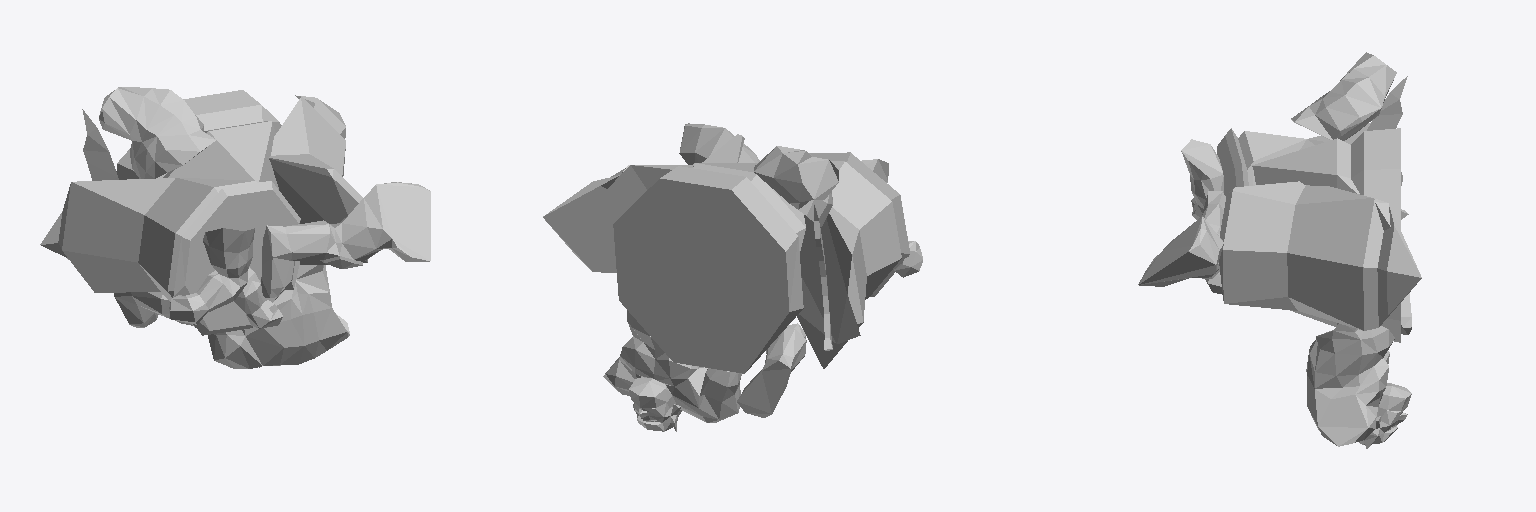
Rendered from statue-Orc-04.obj.
3 renders of one model, left to right at view 1: azimuth 30°, elevation 25°; view 2: azimuth 150°, elevation 25°; view 3: azimuth 270°, elevation 25°, orthographic.
Visible parts, largest first — view 1: (null); view 2: (null); view 3: (null).
Part boxes in pixels (x1,y1,x2,y2): (null): (40,87,430,368); (null): (543,123,922,431); (null): (1138,52,1421,448).
Size of the model in its own units: 4.34 by 4.19 by 3.46.